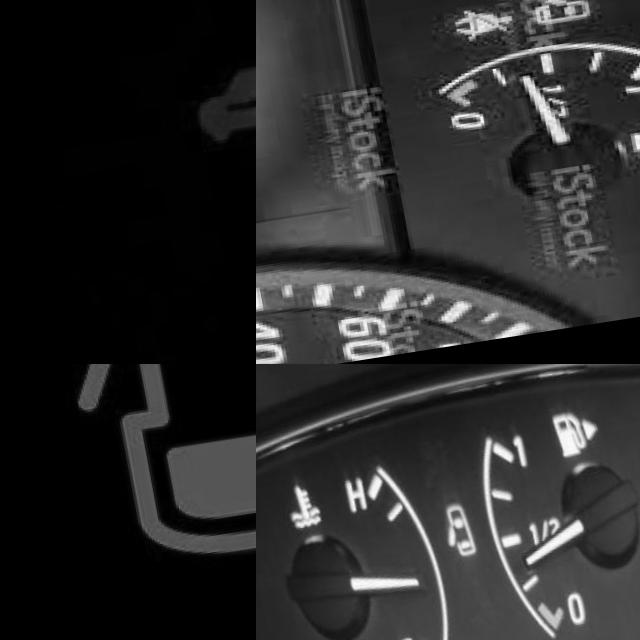Seat Belt: (432, 4, 506, 49)
